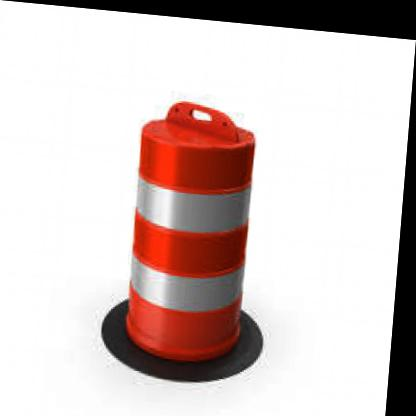obstacle: (116, 90, 268, 364)
